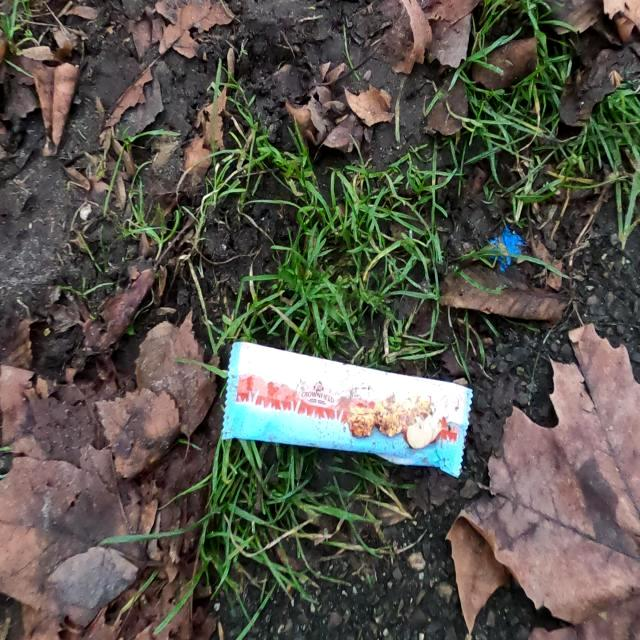Plastic: (217, 341, 478, 482)
